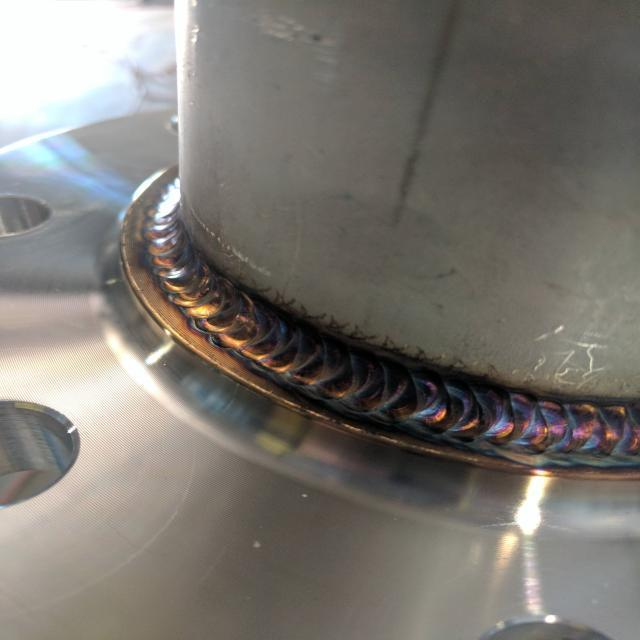Good Welding: (140, 180, 638, 470)
